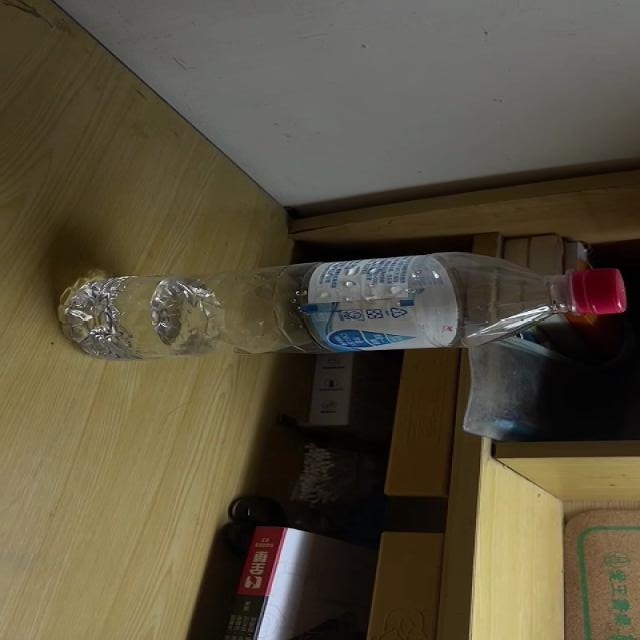Water: (55, 252, 625, 361)
